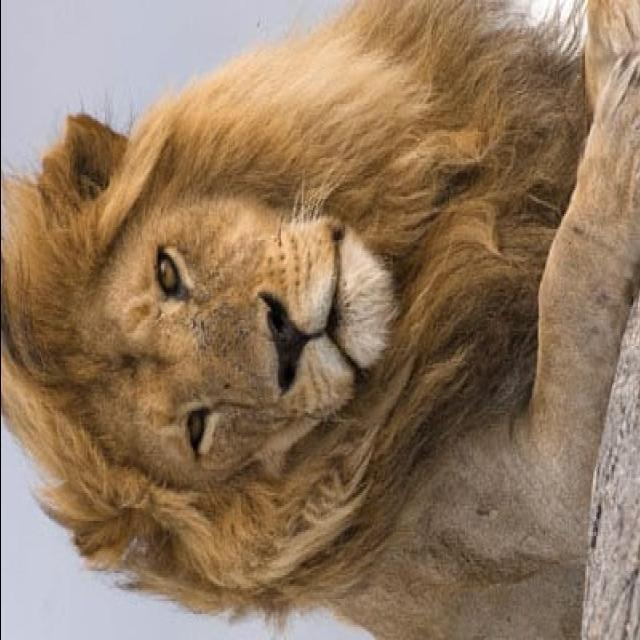lions: (3, 20, 640, 640)
